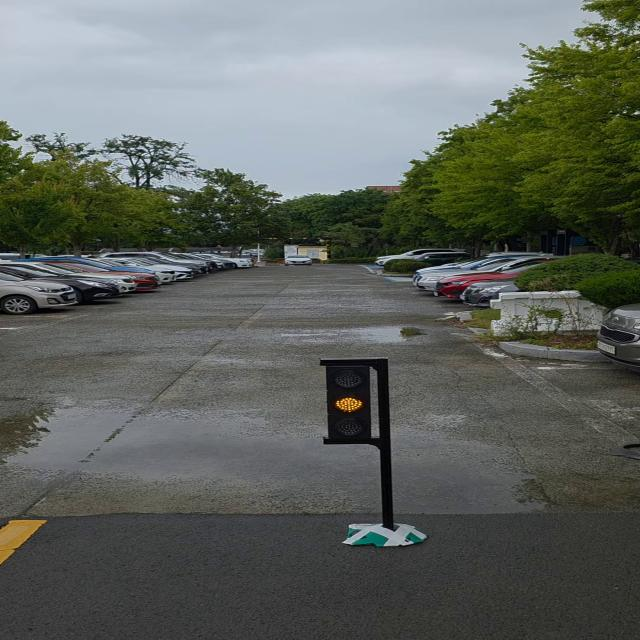yellow: (328, 361, 373, 444)
